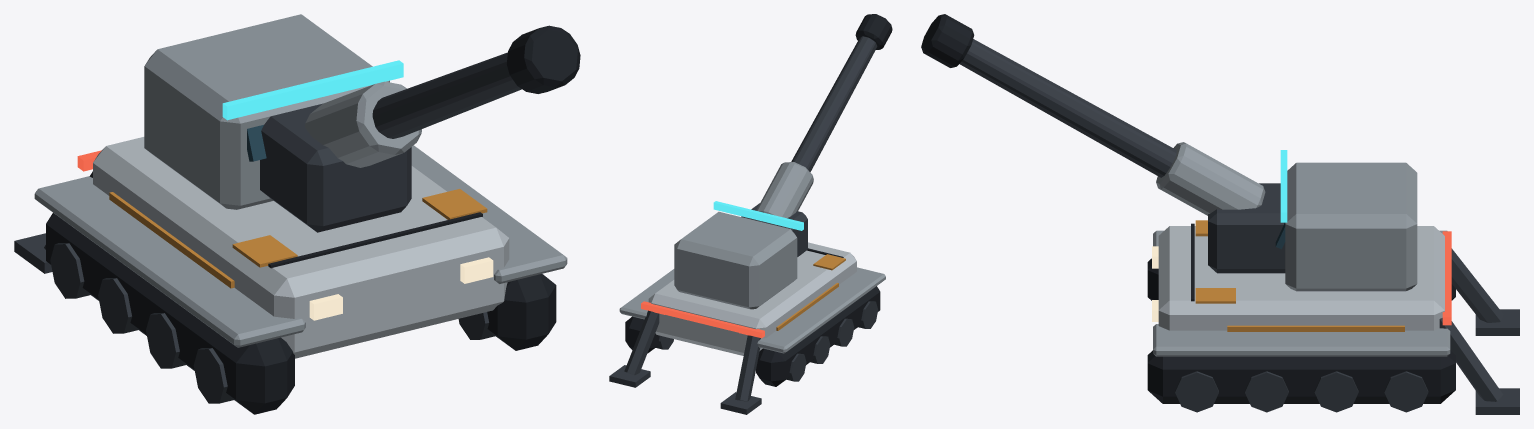
Rendered from exo-artillery.glb.
The picture shows the model from 3 angles, left to right: view 1: azimuth 30°, elevation 25°; view 2: azimuth 150°, elevation 25°; view 3: azimuth 270°, elevation 25°; orthographic projection. The views are drawn at different scales.
Parts seen in each view (by area): view 1: body; view 2: body; view 3: body.
Part boxes in pixels (<box>): body: <box>14,14,580,414</box>; body: <box>609,14,892,414</box>; body: <box>921,14,1519,414</box>.
Size of the model in its own units: 2.55 by 3.5 by 5.43.
